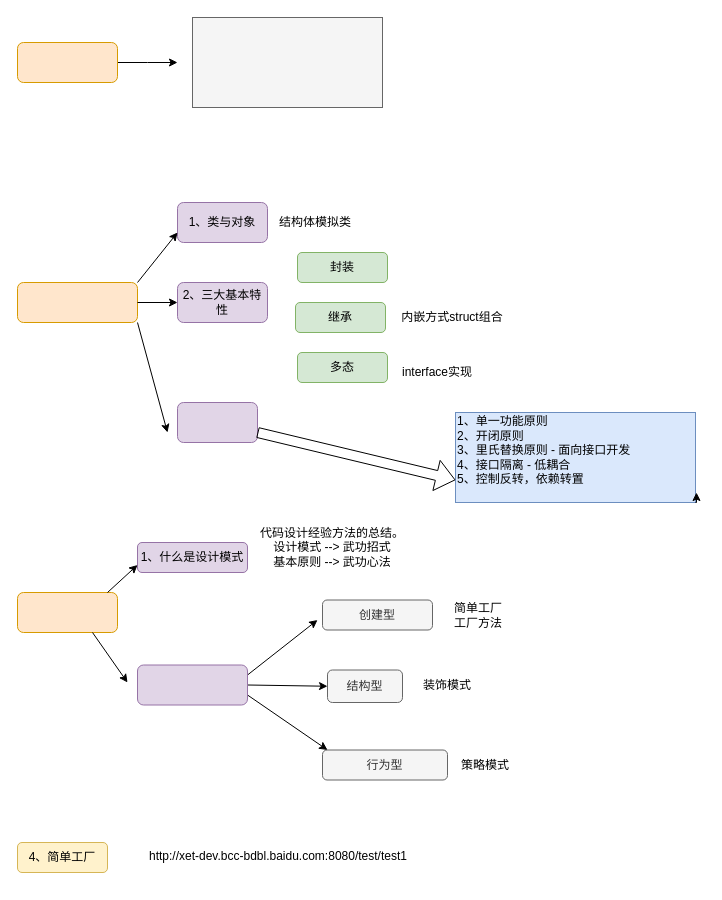
This 722x900 diagram has some shape labels left out. Here are the shapes that lost their labels. From the top down, the centre of each, then its label:
At point (67, 62): "1、为什么学习".
At point (287, 62): "方便交流 代码质量 面试需要".
At point (77, 302): "2、oop基础".
At point (217, 422): "3、五大基本原则".
At point (67, 612): "3、设计模式".
At point (192, 684): "2、分类".
